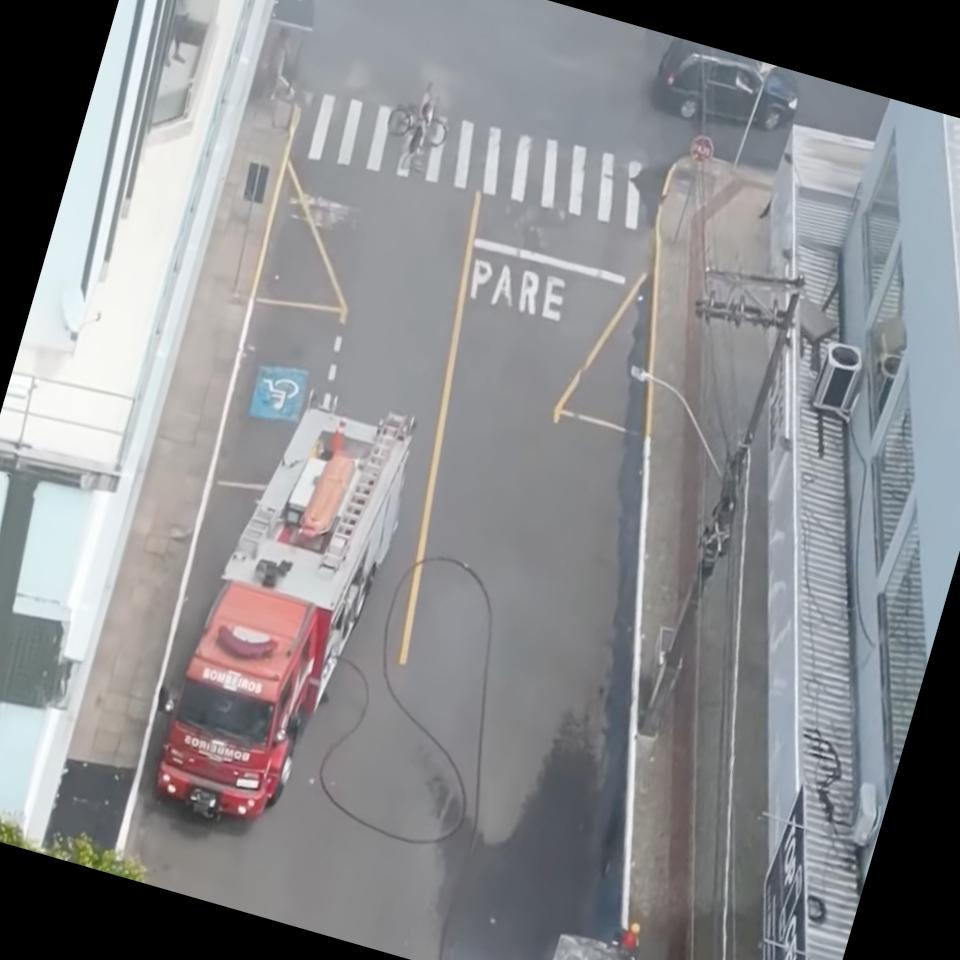viatura: (128, 370, 426, 848)
